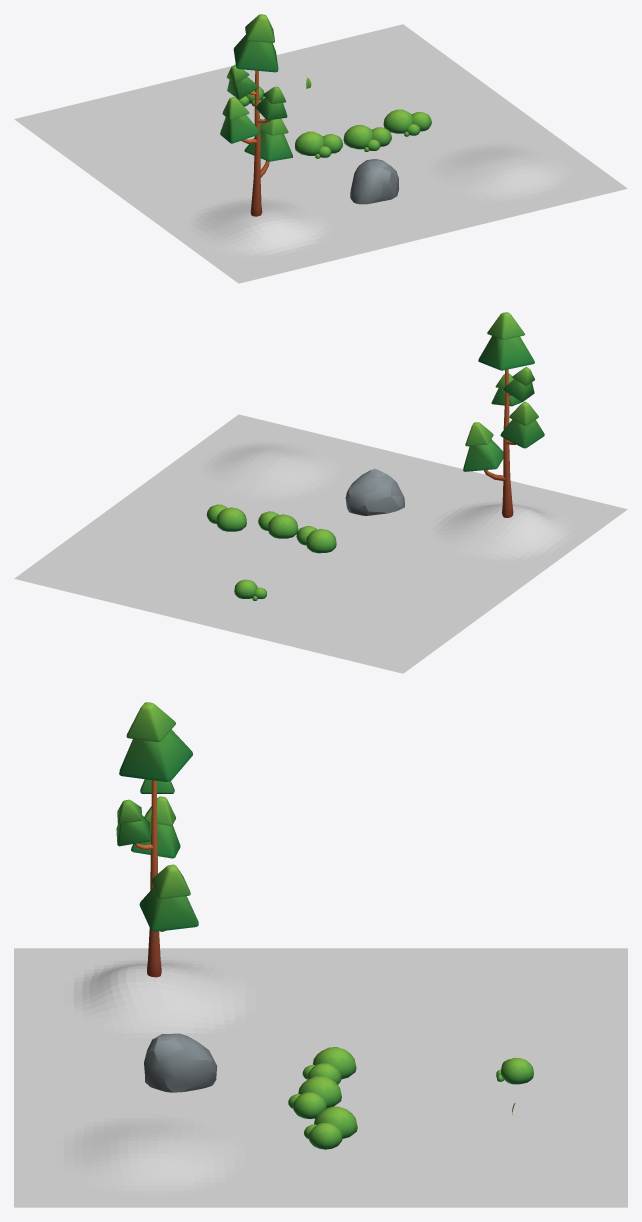
File: world++.glb
3 views of the same model, one above another, from view 1: azimuth 30°, elevation 25°; view 2: azimuth 150°, elevation 25°; view 3: azimuth 270°, elevation 25° (orthographic). The views are drawn at different scales.
Parts seen in each view (by area): view 1: Plane, Tree_4_C_Color1, Rock_3_L_Color1, Bush_1_F_Color1.001, Bush_1_F_Color1, Bush_1_F_Color1.002; view 2: Plane, Tree_4_C_Color1, Rock_3_L_Color1, Bush_1_F_Color1.001, Bush_1_F_Color1.002, Bush_1_F_Color1, Bush_1_E_Color1; view 3: Plane, Tree_4_C_Color1, Rock_3_L_Color1, Bush_1_F_Color1.002, Bush_1_F_Color1.001, Bush_1_F_Color1, Bush_1_E_Color1.
Part boxes in pixels (x1,y1,x2,y2): Plane: (14,24,627,283); Tree_4_C_Color1: (220,14,292,216); Rock_3_L_Color1: (350,159,398,204); Bush_1_F_Color1.001: (343,125,391,151); Bush_1_F_Color1: (295,131,342,158); Bush_1_F_Color1.002: (383,109,431,136); Plane: (14,414,627,673); Tree_4_C_Color1: (463,312,544,517); Rock_3_L_Color1: (345,468,404,515); Bush_1_F_Color1.001: (258,511,298,538); Bush_1_F_Color1.002: (206,504,246,531); Bush_1_F_Color1: (296,526,336,553); Bush_1_E_Color1: (234,579,266,600); Plane: (14,948,627,1207); Tree_4_C_Color1: (116,702,198,977); Rock_3_L_Color1: (144,1033,217,1092); Bush_1_F_Color1.002: (304,1106,357,1149); Bush_1_F_Color1.001: (288,1076,341,1118); Bush_1_F_Color1: (302,1047,356,1084); Bush_1_E_Color1: (496,1057,533,1084).
Size of the model in its own units: 21.43 by 11.93 by 21.43.
Materials: 7 (7 with a texture image).
